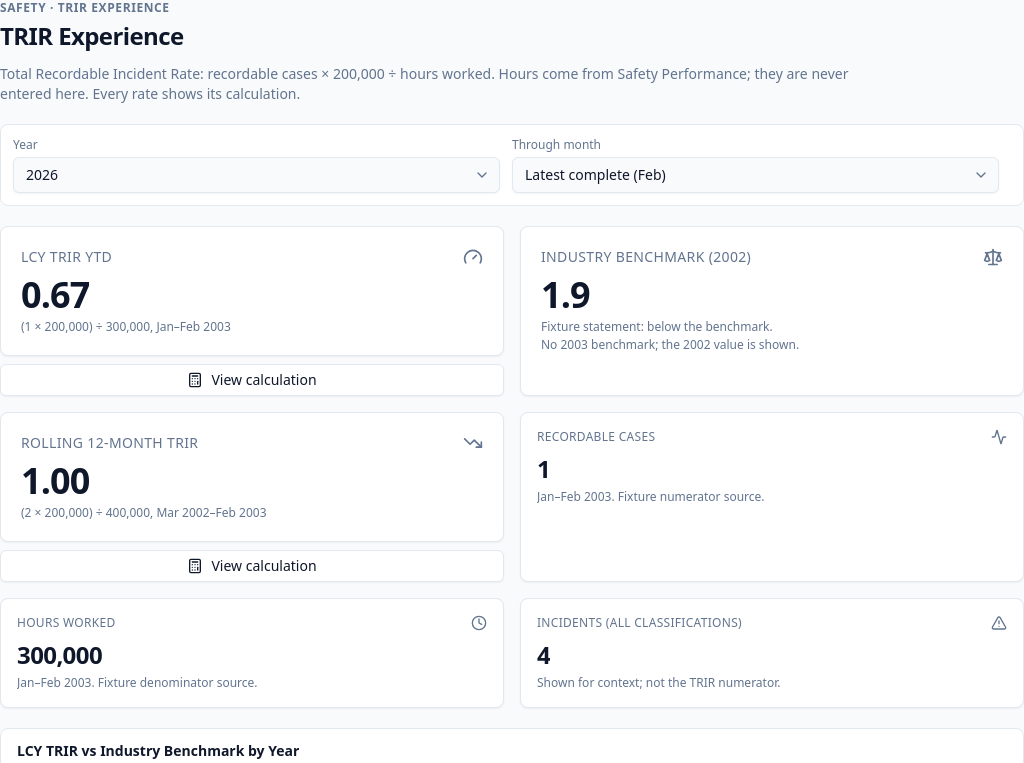
Test: TRIR Experience › names both years of a rolling 12-month period that starts in the previous year
The width and height of the screenshot is (1024, 763).
What coordinates should you click on to do the following:
click the button "View calculation" below "1.00"
I would click on:
 (252, 566)
Its box is [0, 550, 504, 582].
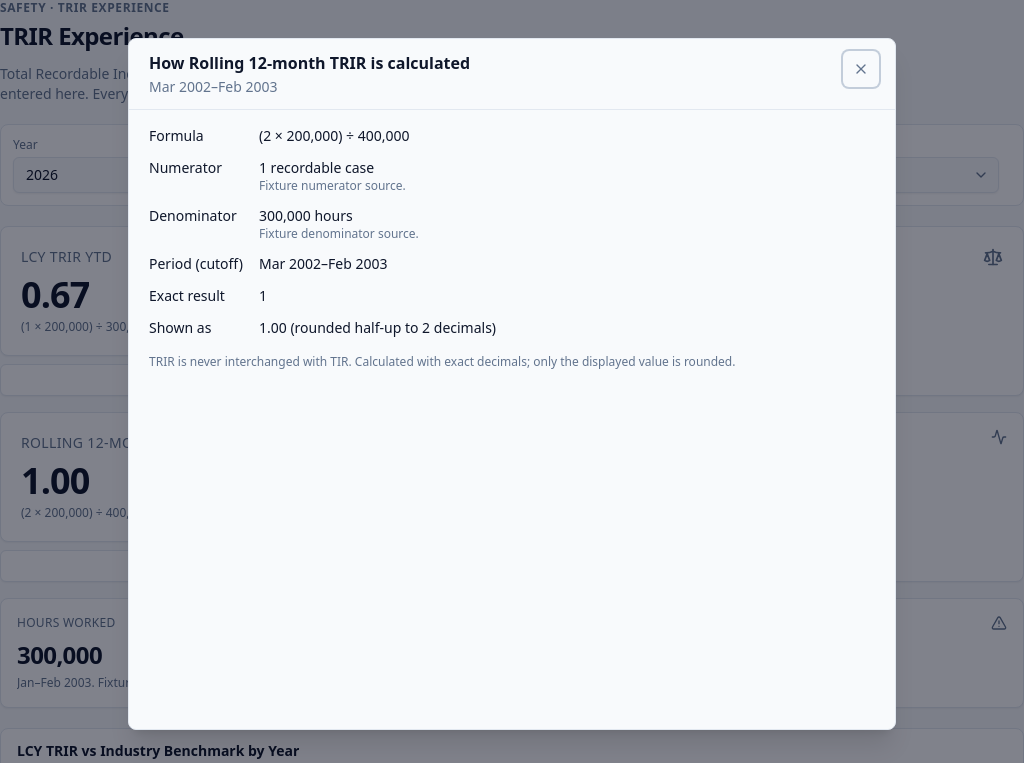
Now the dialog shows "Mar 2002–Feb 2003", box [149, 77, 278, 96]
